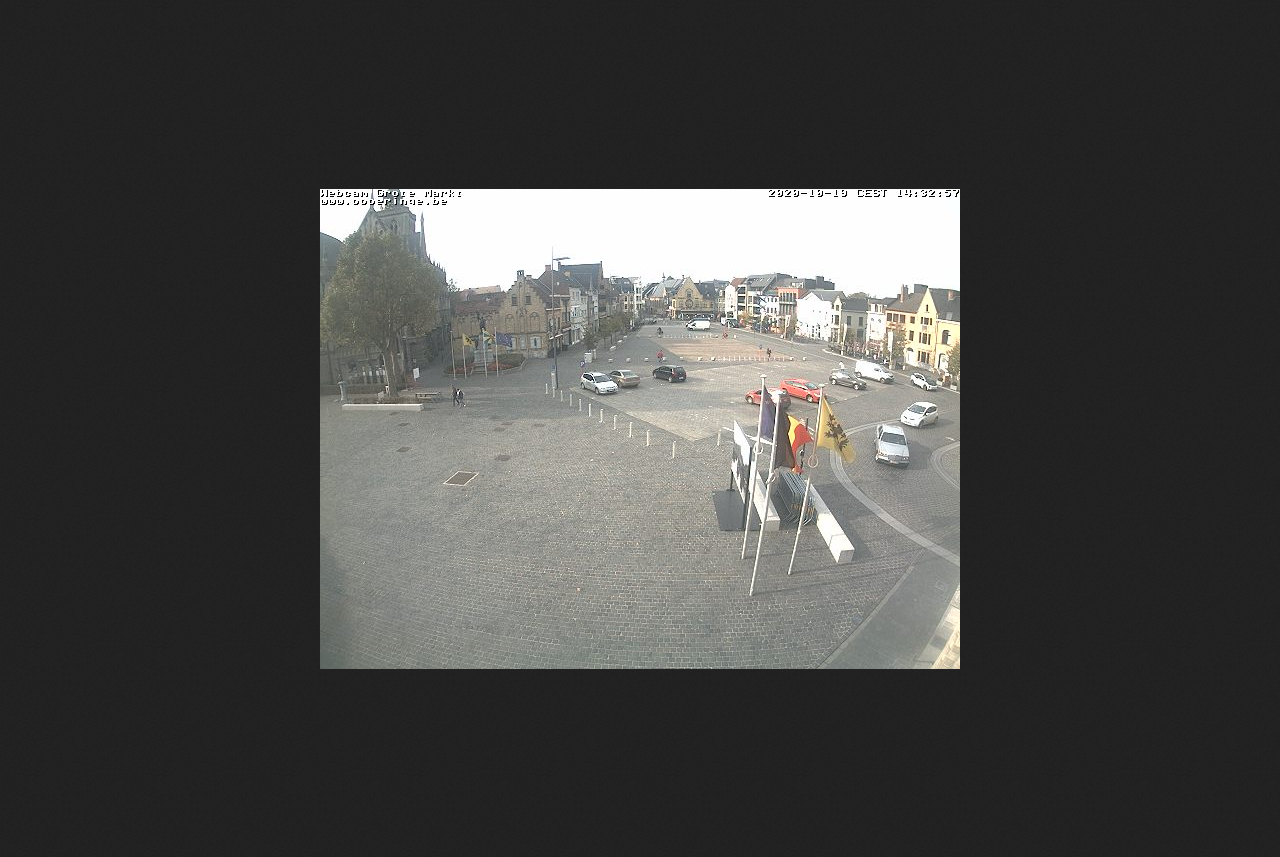maybe: (813, 389, 860, 464), (773, 408, 815, 476), (759, 384, 777, 440), (460, 333, 474, 350), (481, 329, 491, 346), (448, 333, 457, 349)
yes: (495, 329, 515, 350)
